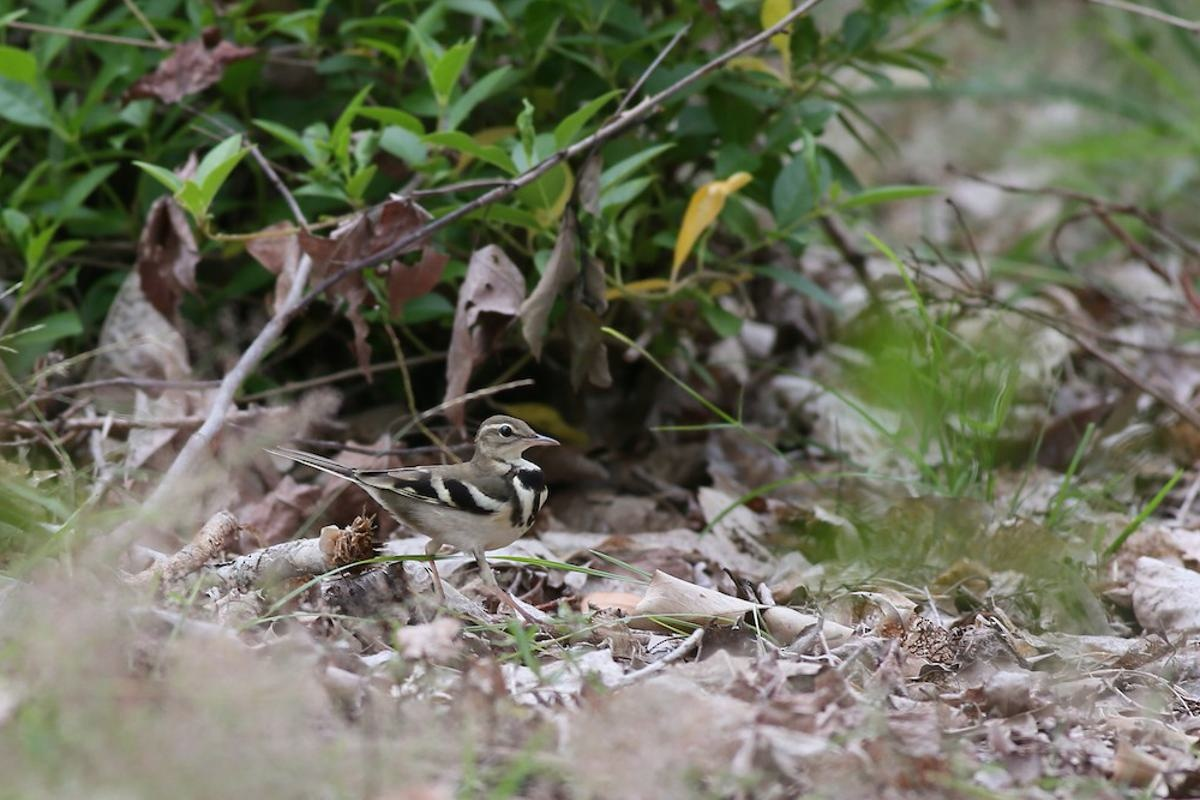wagtail: (304, 401, 573, 580)
